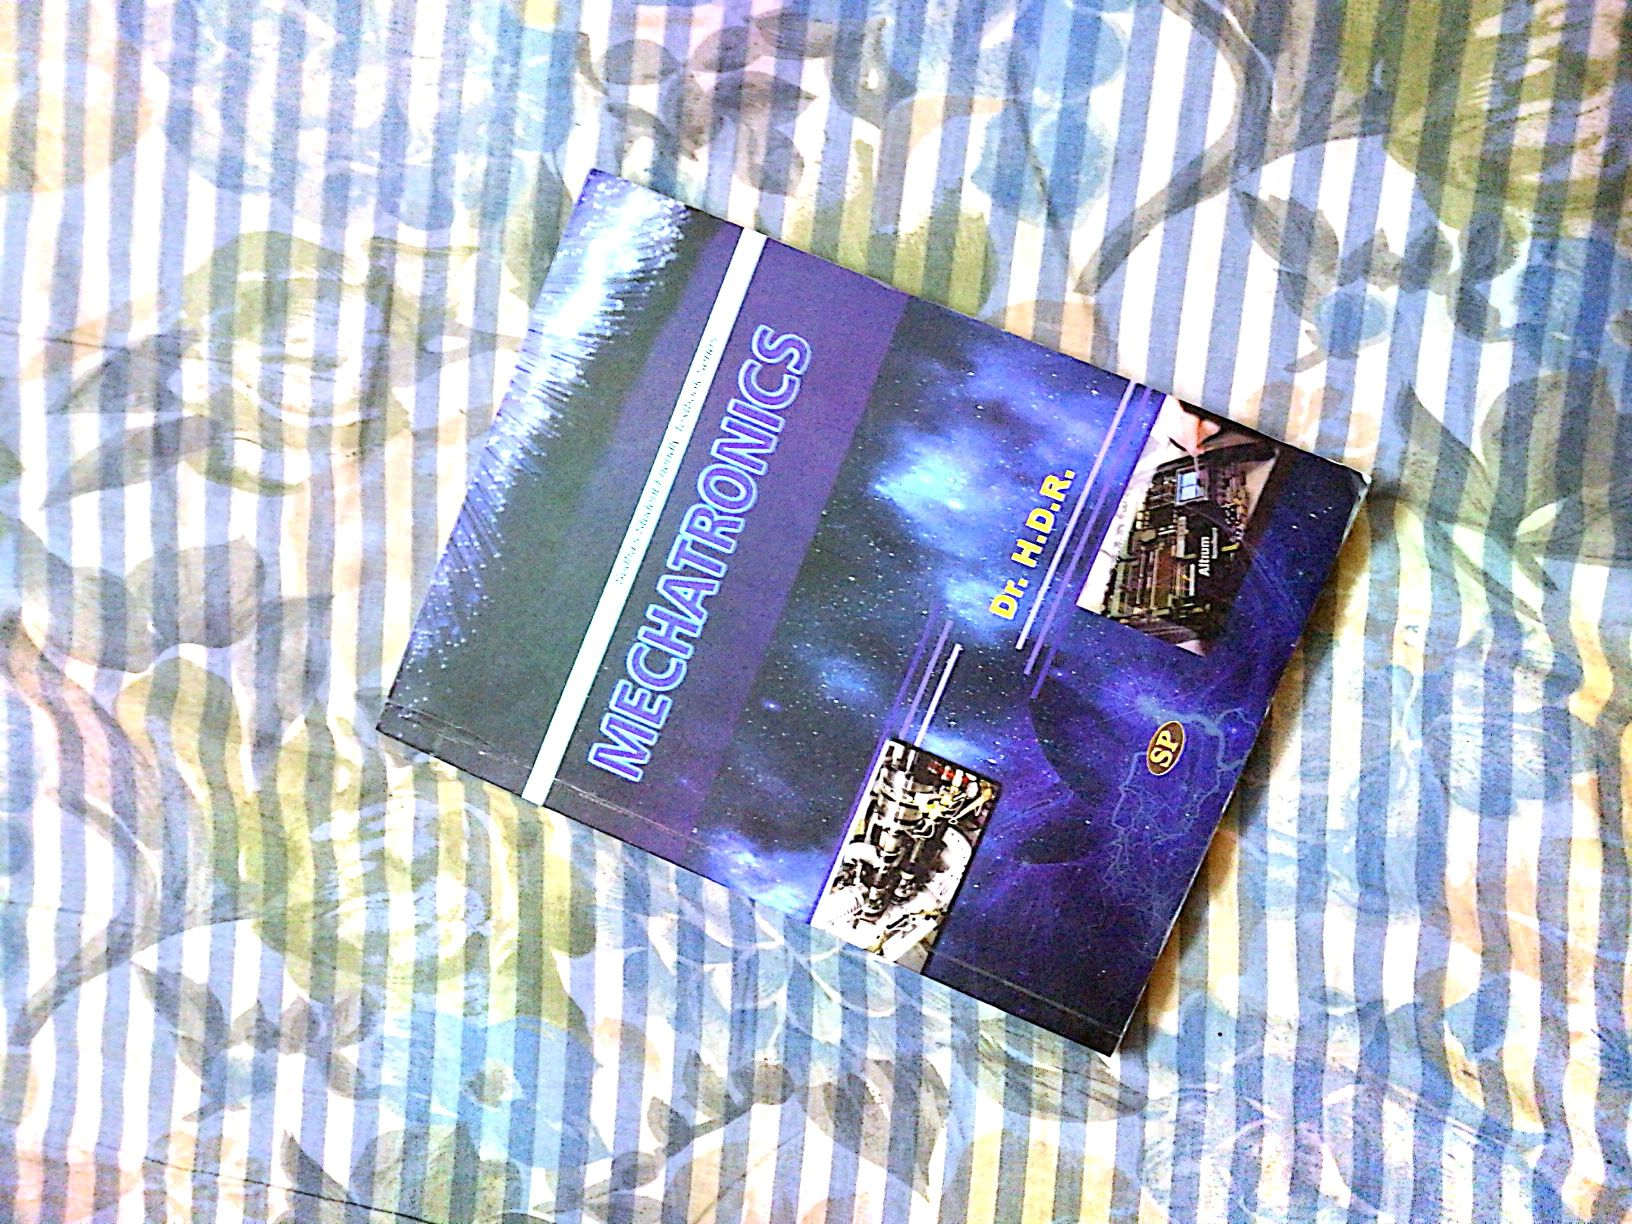mechatronics: (386, 201, 1343, 994)
